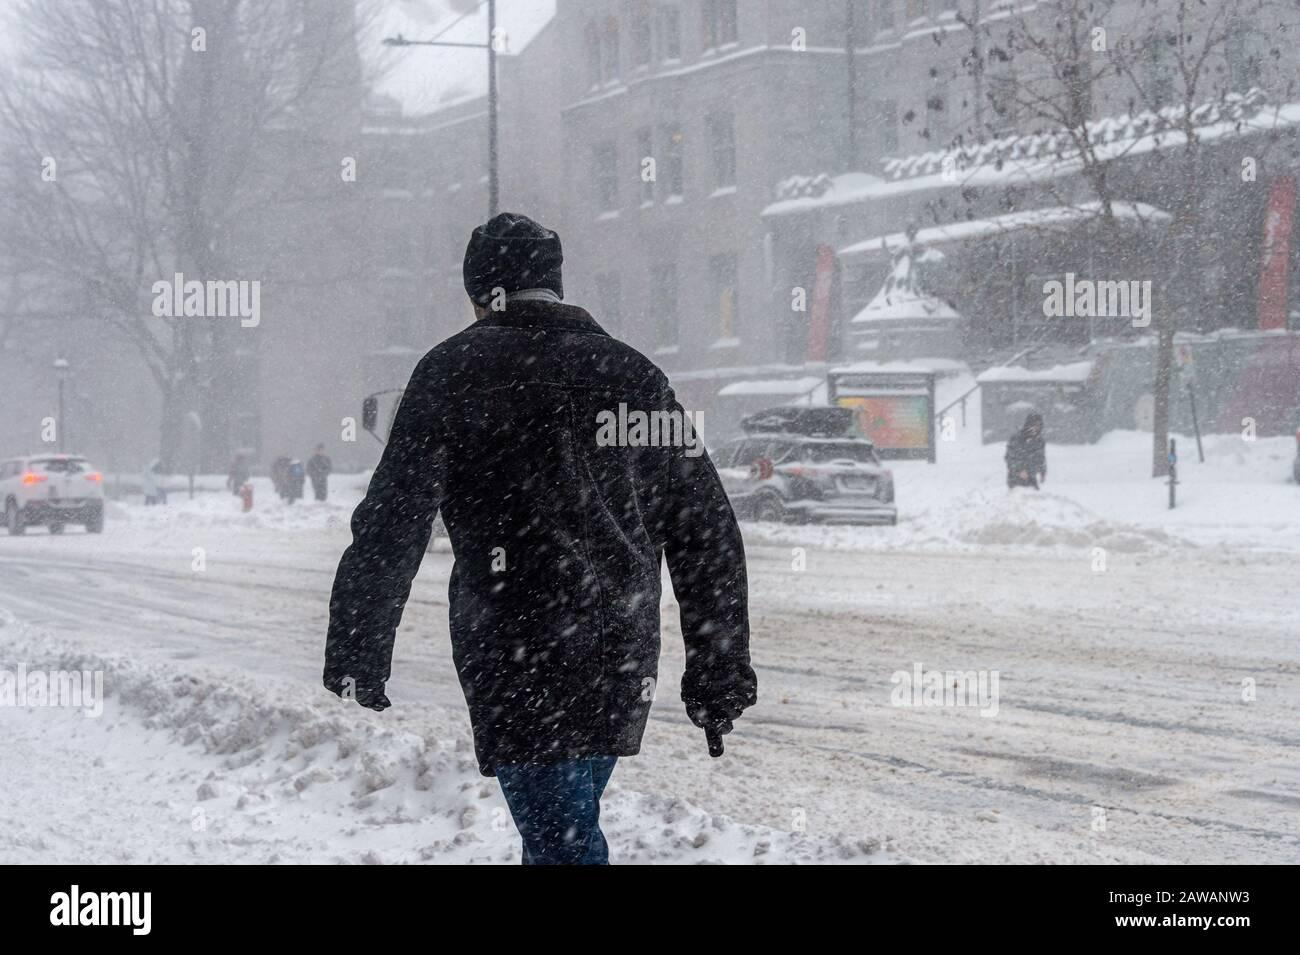car: (691, 399, 906, 544), (1, 450, 111, 540)
pedestrian: (279, 197, 786, 858), (992, 402, 1059, 505), (308, 437, 331, 502)
